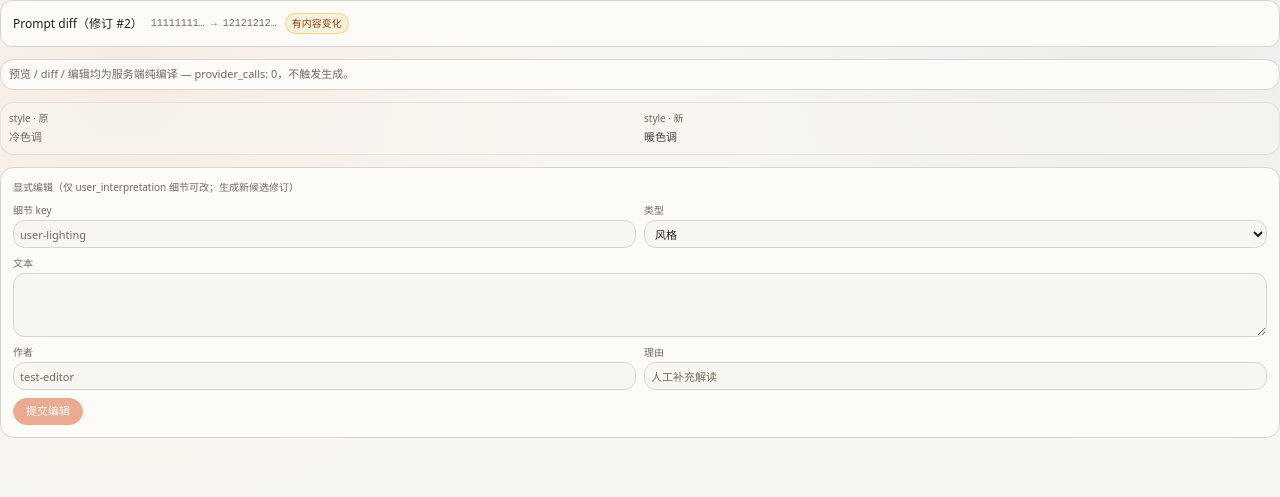
Scenario: PromptDiff (explicit edit / diff workspace) › surfaces a server validation error fail-closed
In the field with test id "prompt-diff-edit-detail-key": (324, 234) [13,220,636,248], type "d-subject"
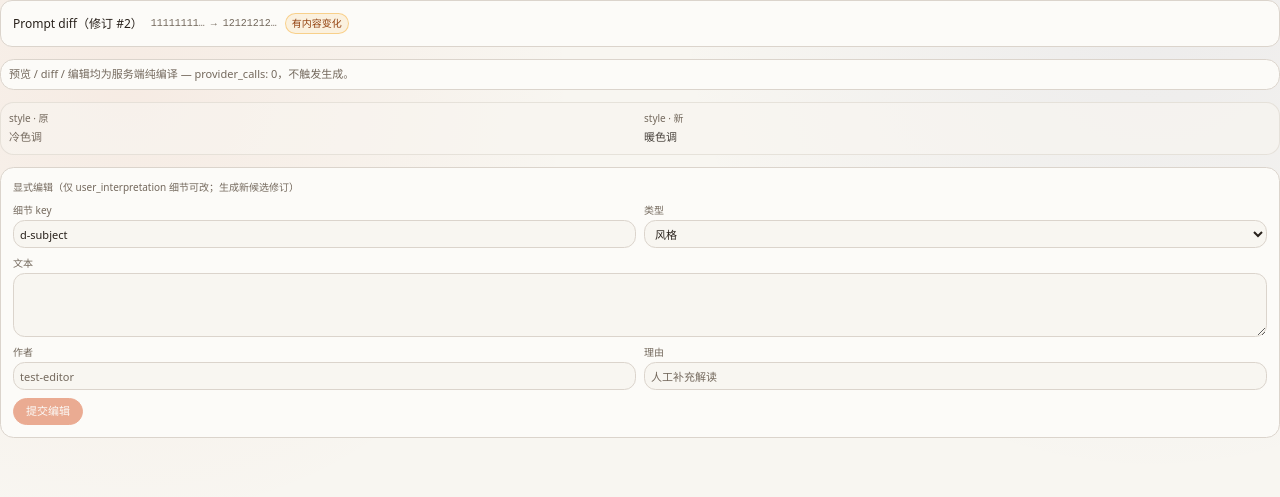
In the text box with test id "prompt-diff-edit-text": (640, 305) [13,273,1267,337], type "改动正典"
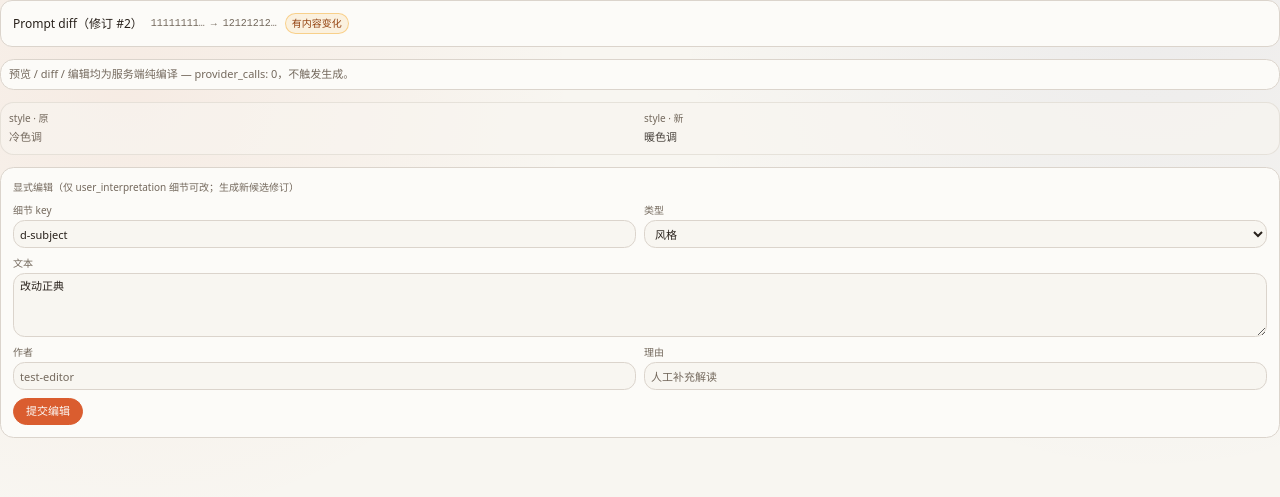
Submit the form with test id "prompt-diff-edit-form", box [0,167,1279,438]
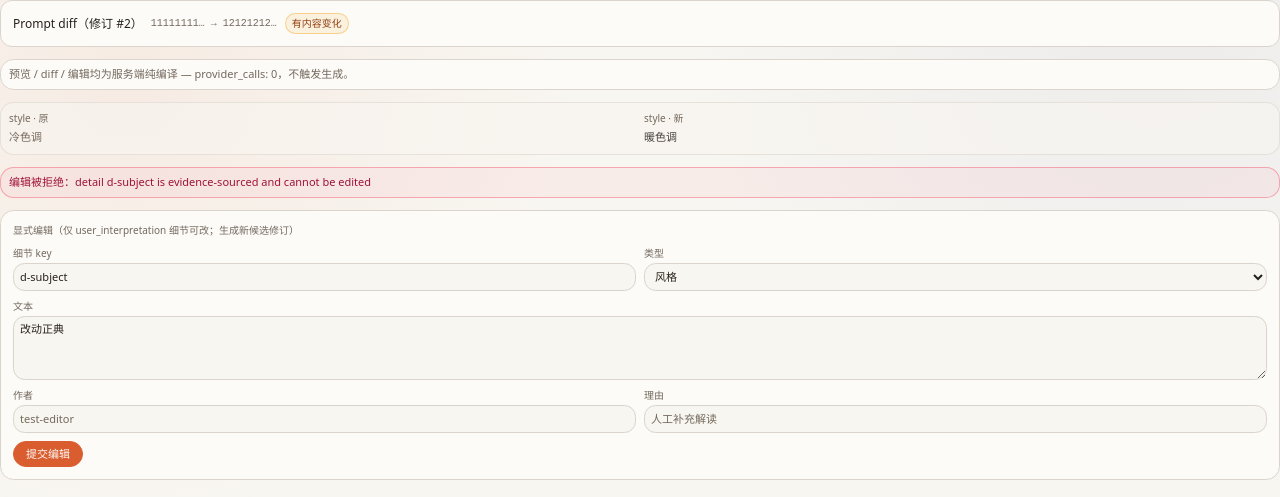
Check: the text with test id "prompt-diff-validation-error" shows "cannot be edited", box [75,174,371,189]
